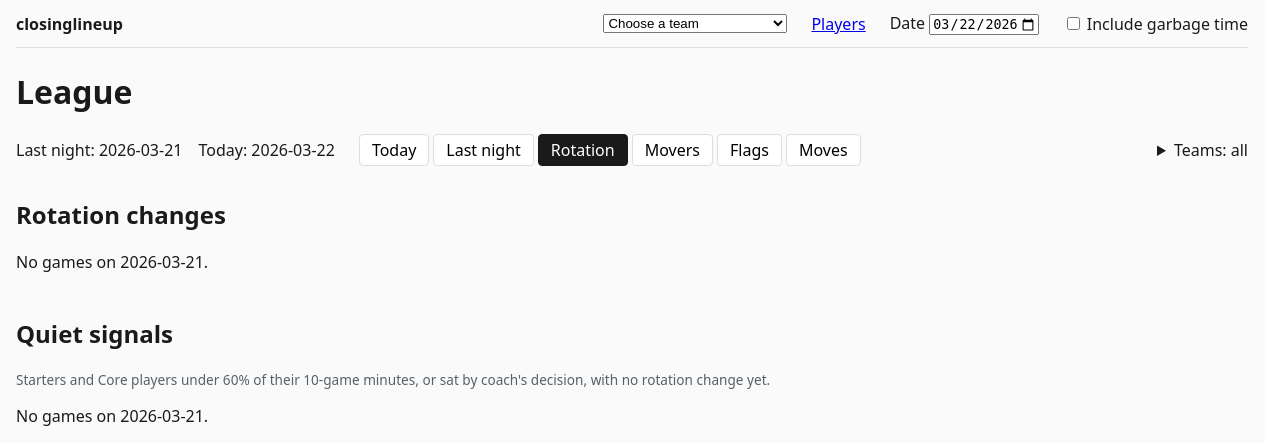
Test case: LeaguePage › says 'no games' on every derived tab when last night had none
The width and height of the screenshot is (1265, 443).
Expected: the element "Rotation changes" shows "No games on 2026-03-21.", [16,251,208,273]
Click the tab "Last night": point(484, 150) [433,134,534,166]
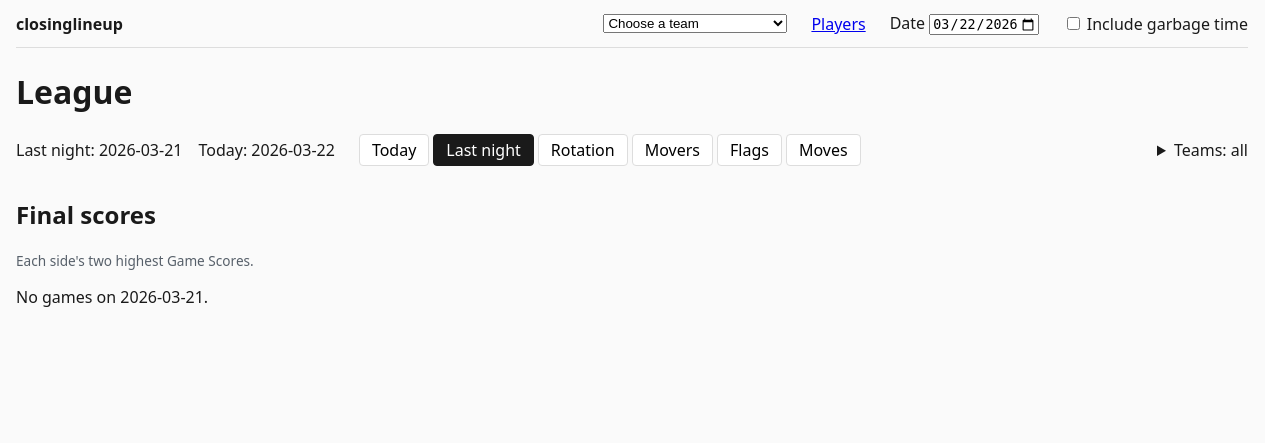
Expected: the element "Final scores" shows "No games on 2026-03-21.", [16,286,208,308]
Click the tab "Movers": point(672, 150) [632,134,713,166]
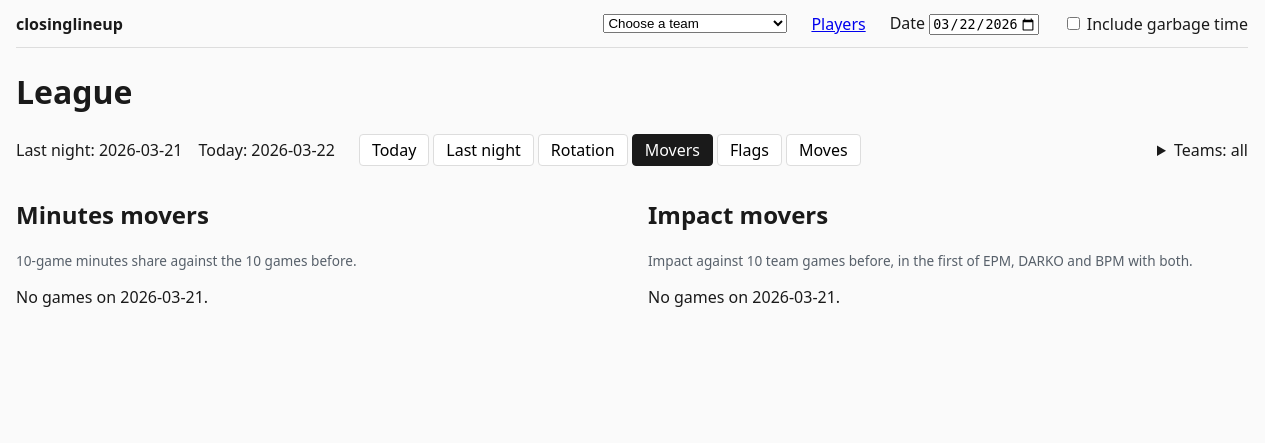
Expected: the element "Minutes movers" shows "No games on 2026-03-21.", [16,286,208,308]
Expected: the element "Impact movers" shows "No games on 2026-03-21.", [648,286,840,308]
Click the tab "Flags": point(749, 150) [717,134,782,166]
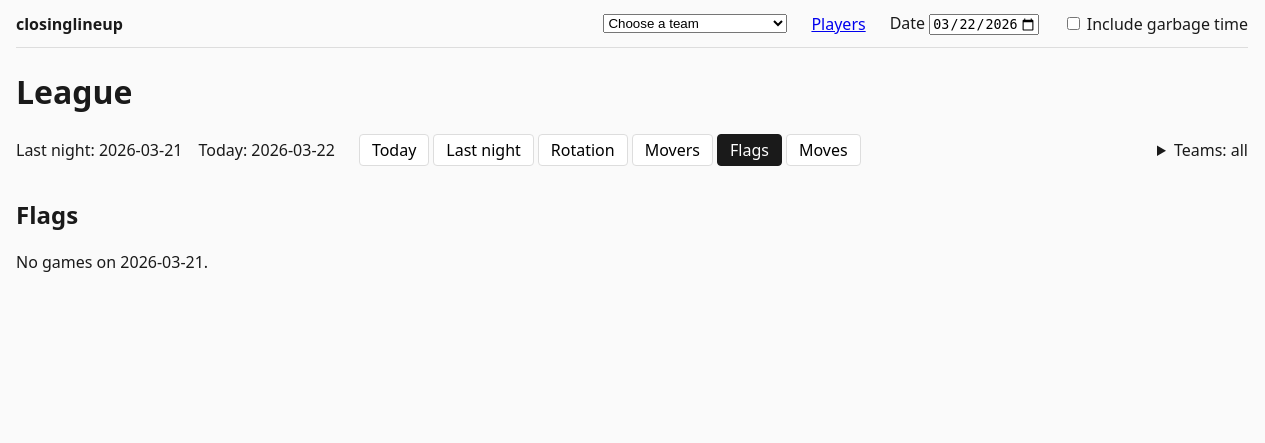
Expected: the element "Flags" shows "No games on 2026-03-21.", [16,251,208,273]
Click the tab "Moves": point(823, 150) [786,134,861,166]
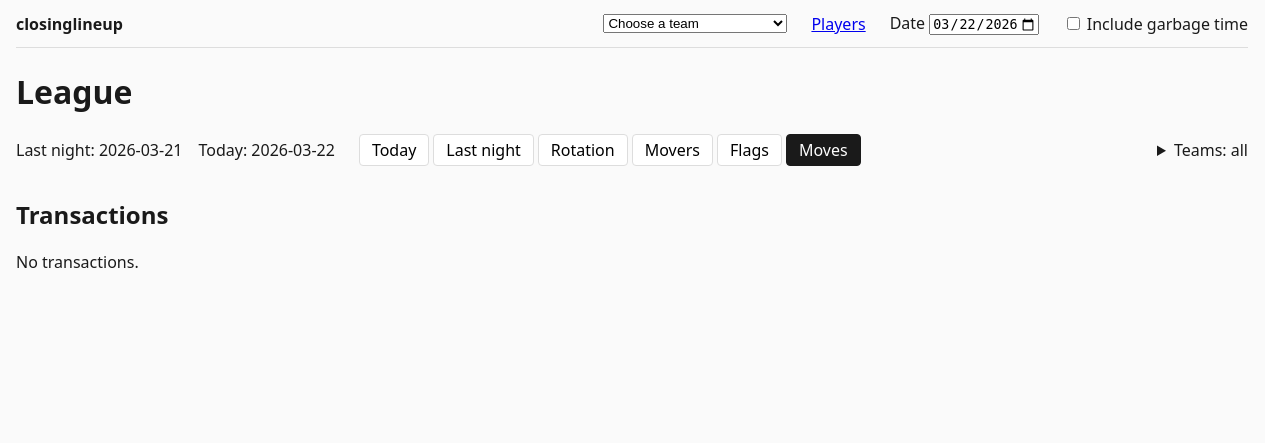
Expected: the element "Transactions" shows "No transactions.", [16,251,139,273]
